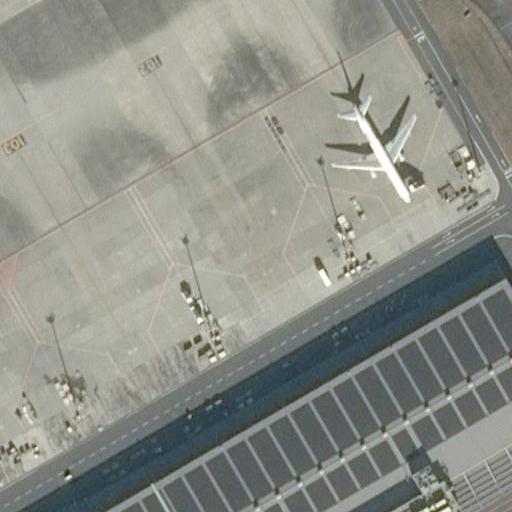Aircraft: (323, 81, 420, 207)
